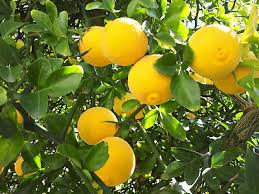orange: (187, 24, 240, 83), (127, 55, 177, 104), (87, 139, 138, 183), (103, 18, 148, 67), (75, 108, 122, 143), (78, 25, 112, 68)
